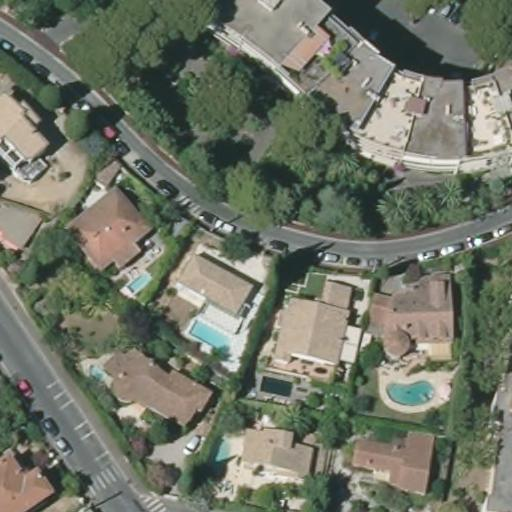pool: (189, 316, 236, 354), (384, 374, 436, 406), (125, 269, 151, 295)
